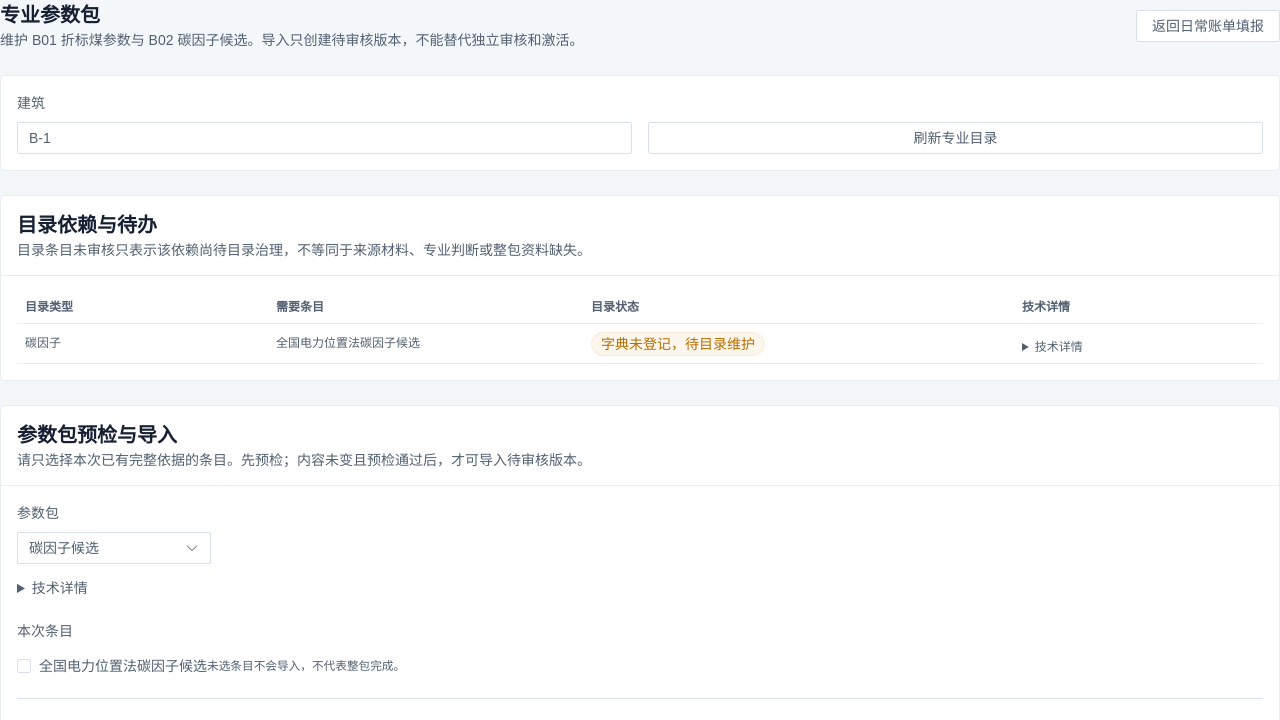
专业参数包权限边界 › 预检主区域显示中文处理动作，原始服务端说明只保留在折叠技术详情
Click the checkbox labelled "全国电力位置法碳因子候选". click: (112, 666)
box: [17, 658, 207, 674]
(page scrolled)
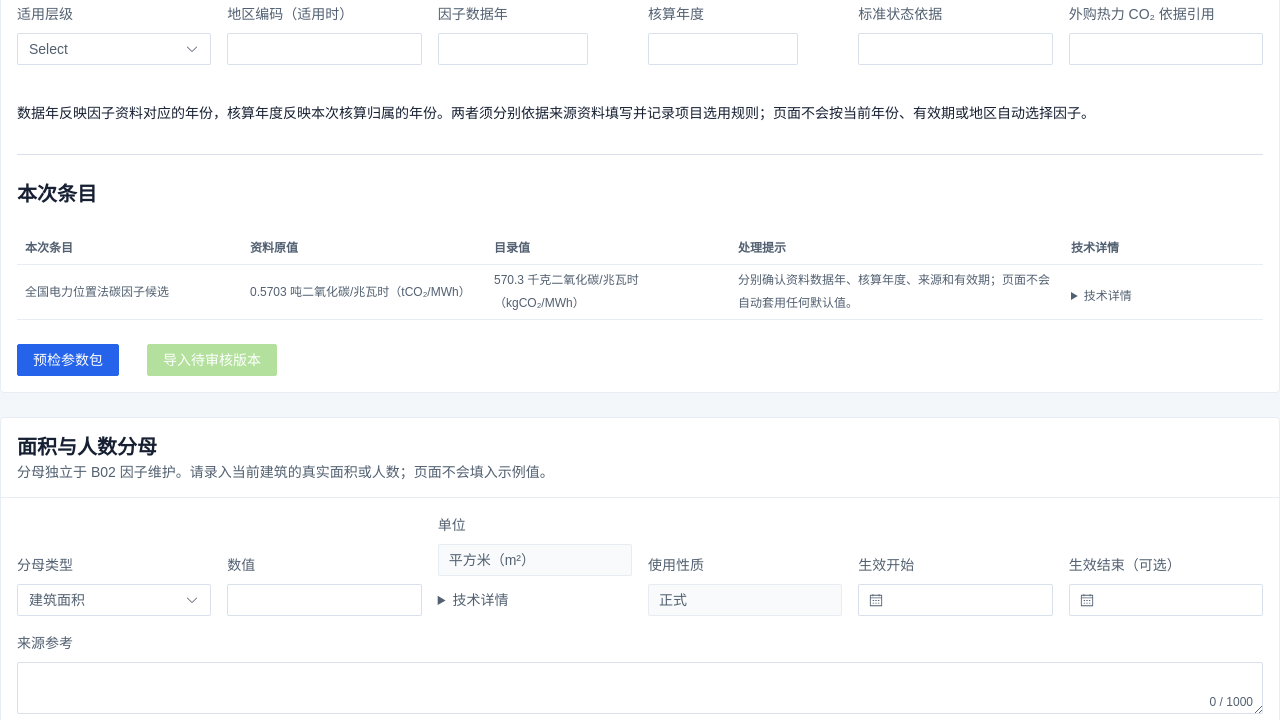
Click the button with test id "parameter-preview". click: (68, 360)
box: [17, 344, 119, 376]
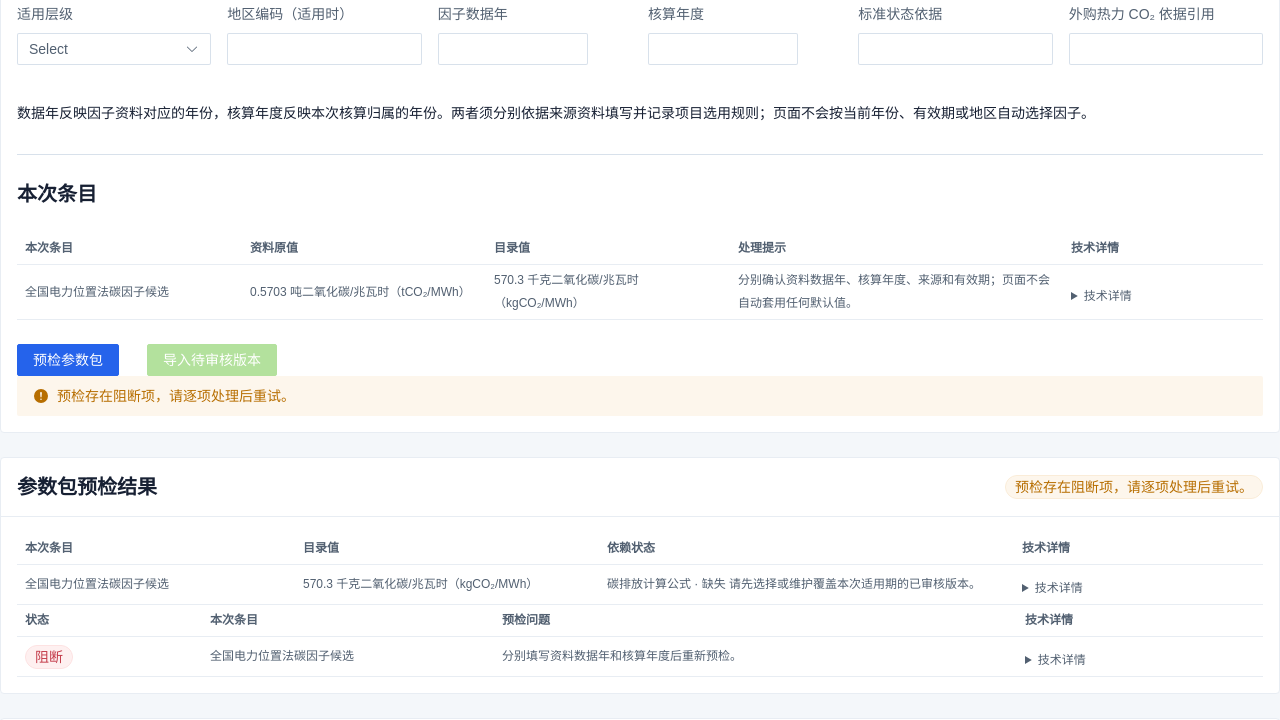
Result: the text with test id "preview-issue-action" reads "分别填写资料数据年和核算年度后重新预检。" at [502, 649, 742, 663]
Result: the text with test id "preview-dependencies" shows "碳排放计算公式" at [607, 577, 981, 591]
Result: the text with test id "preview-dependencies" shows "请先选择或维护覆盖本次适用期的已审核版本。" at [607, 577, 981, 591]
Click the button with test id "parameter-preview". click: (68, 360)
box: [17, 344, 119, 376]
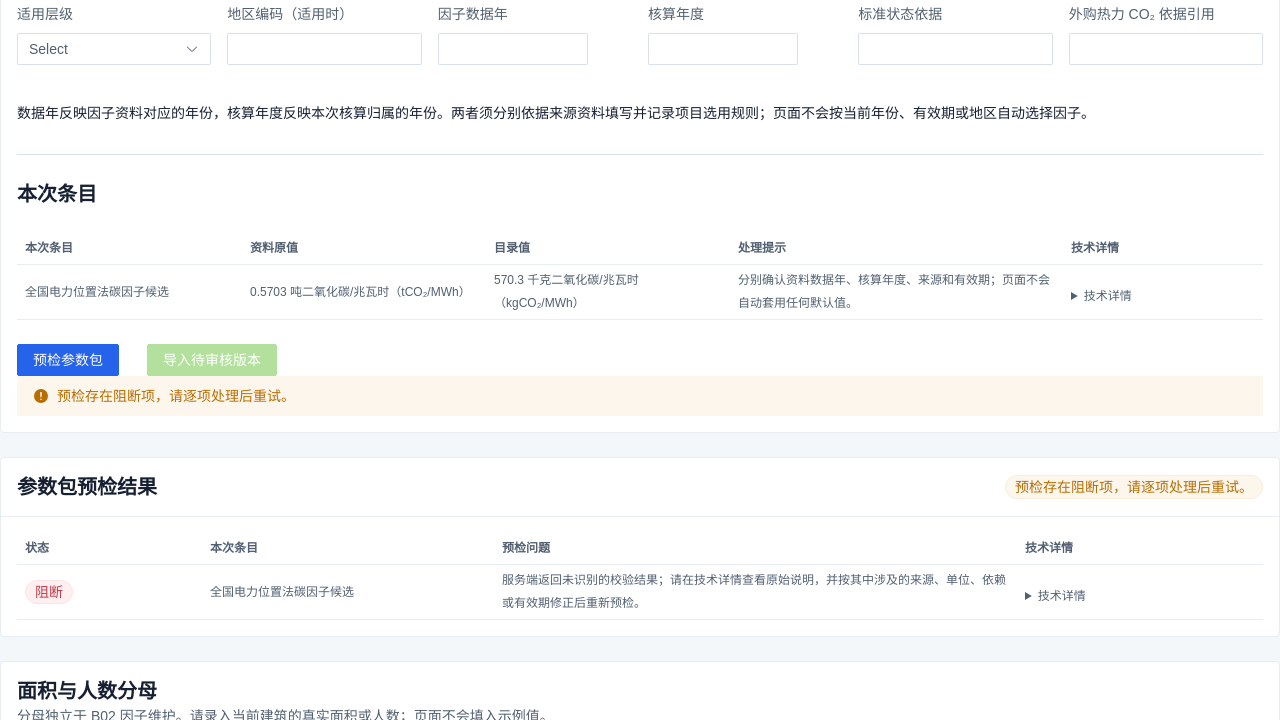
Result: the text with test id "preview-issue-action" shows "服务端返回未识别的校验结果" at [502, 573, 1006, 610]
